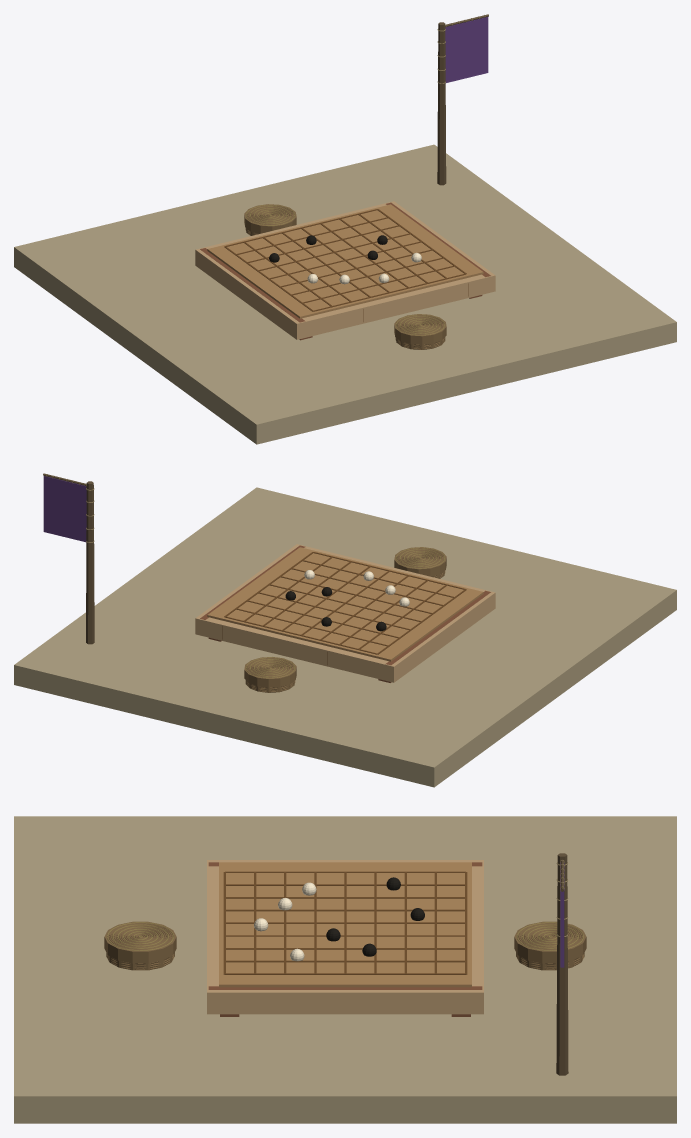
Rendered from zongheng.glb.
3 views of the same model, one above another, from view 1: azimuth 30°, elevation 25°; view 2: azimuth 150°, elevation 25°; view 3: azimuth 270°, elevation 25° (orthographic). The views are drawn at different scales.
Parts seen in each view (by area): view 1: zongheng; view 2: zongheng; view 3: zongheng.
Boxes of the visible parts, box(x1,y1,x2,y2) form: zongheng: box(14, 14, 676, 444); zongheng: box(14, 473, 676, 787); zongheng: box(14, 816, 676, 1123).
Size of the model in its own units: 13 by 5.17 by 12.63.
